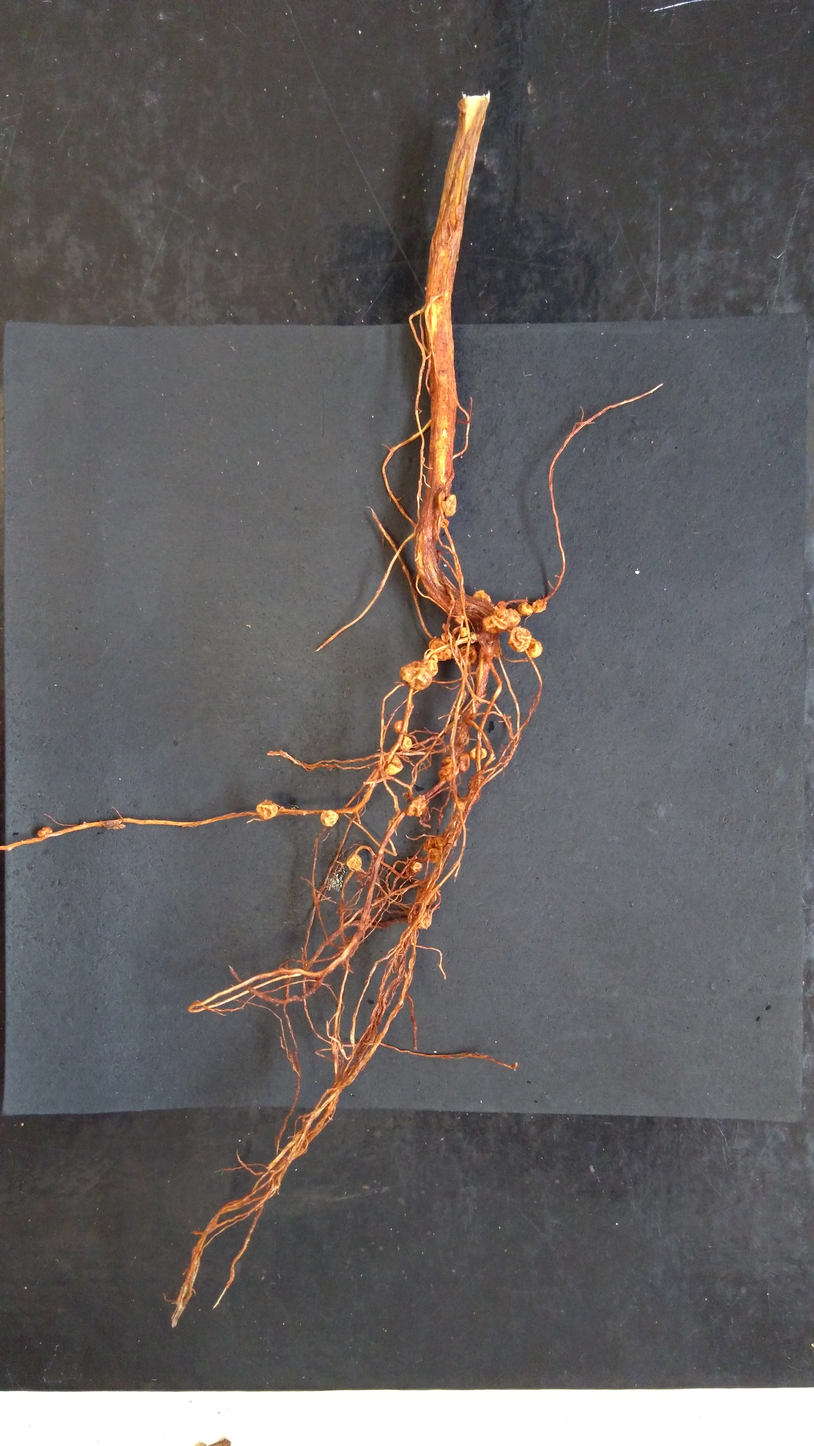nodule: (398, 660, 433, 692), (506, 625, 532, 654), (427, 637, 454, 662), (405, 795, 429, 821), (254, 798, 279, 822), (493, 608, 522, 628), (481, 614, 507, 635), (420, 835, 452, 850), (436, 755, 455, 780), (413, 909, 434, 931), (417, 886, 438, 907), (385, 754, 404, 777), (441, 493, 459, 517), (525, 637, 543, 660), (319, 809, 340, 828), (421, 658, 440, 677), (459, 645, 478, 664), (346, 853, 363, 873), (471, 589, 493, 604), (457, 752, 472, 773), (469, 745, 488, 761), (531, 598, 547, 615), (516, 601, 533, 617), (426, 847, 440, 864), (36, 825, 53, 838), (400, 735, 412, 753), (410, 861, 424, 874), (393, 719, 404, 734), (455, 613, 466, 625), (458, 626, 468, 638), (440, 519, 451, 529), (495, 600, 507, 609), (456, 801, 465, 811), (441, 633, 450, 642)
